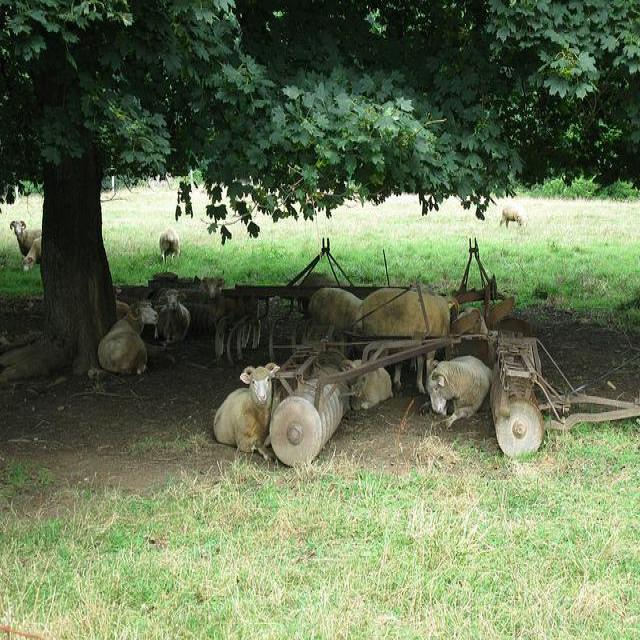Sheep: (355, 288, 460, 395), (214, 361, 281, 460), (98, 302, 159, 382), (199, 275, 261, 349), (430, 354, 490, 426), (339, 358, 394, 411), (307, 287, 362, 336), (154, 289, 191, 344)
